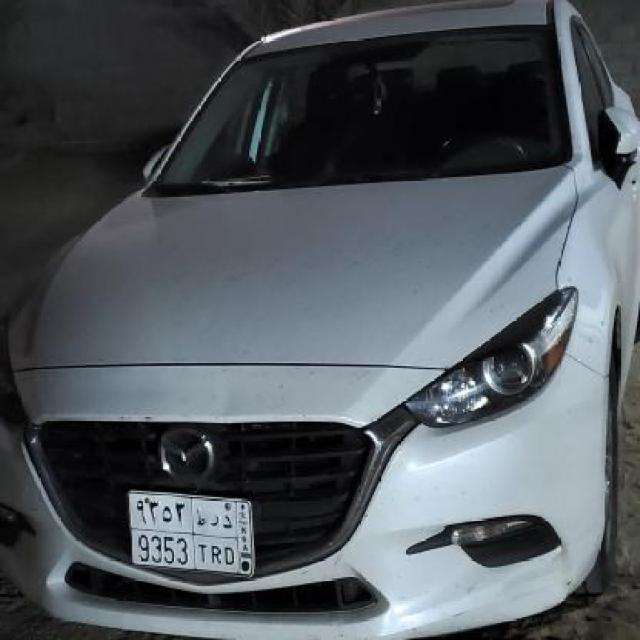license_plate: (127, 488, 256, 580)
